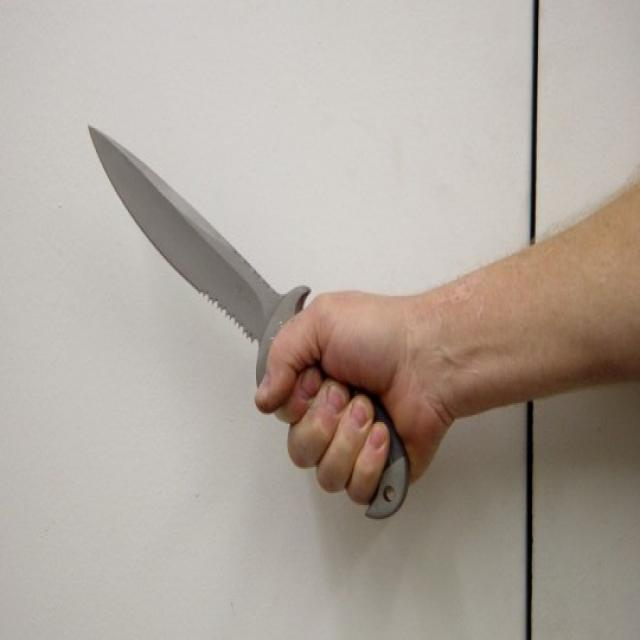knife: (88, 116, 295, 353)
